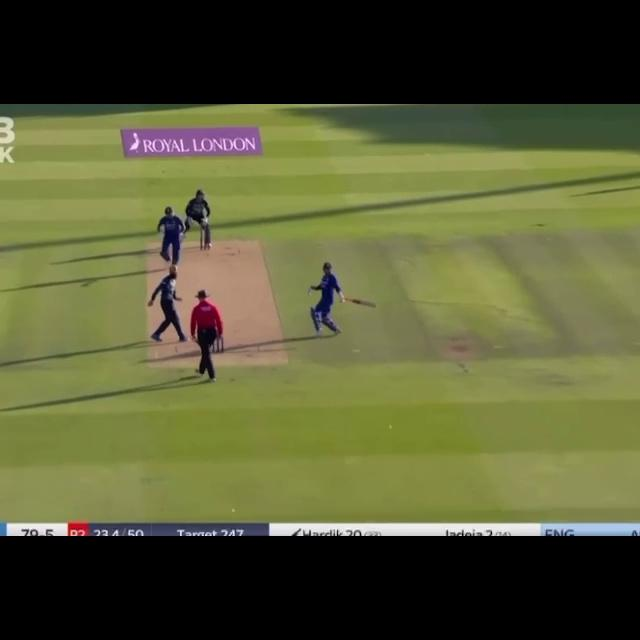umpire: (182, 288, 233, 386)
